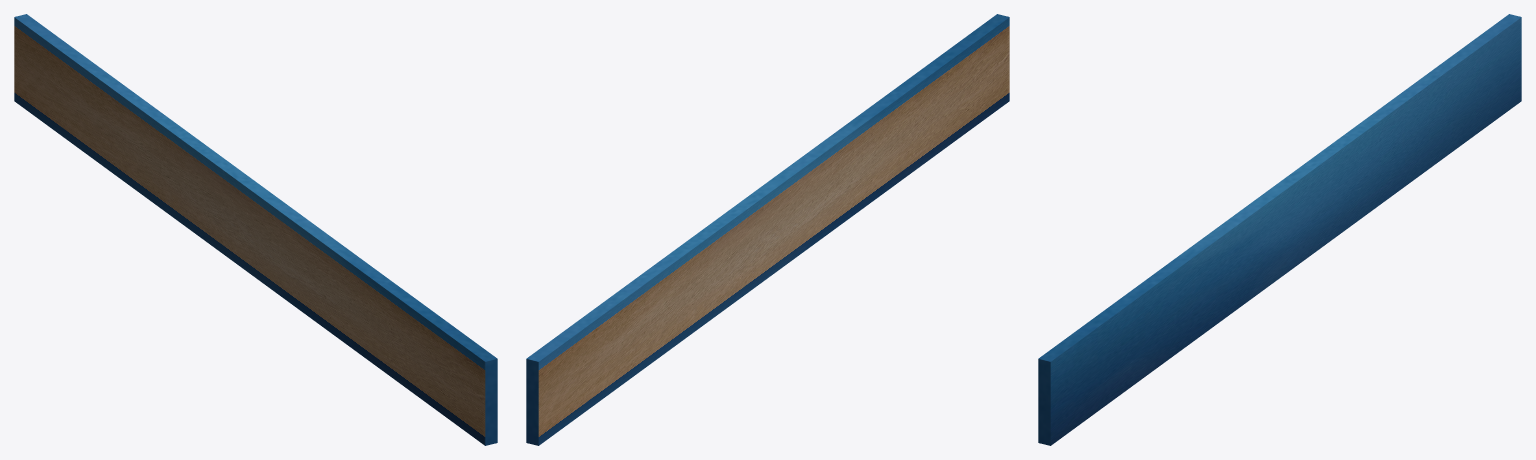
The model's file is RightWall.obj.
The picture shows the model from 3 angles, left to right: view 1: azimuth 30°, elevation 25°; view 2: azimuth 150°, elevation 25°; view 3: azimuth 330°, elevation 25°; orthographic projection.
Visible parts, largest first — view 1: pCube1; view 2: pCube1; view 3: pCube1.
Part boxes in pixels (x1,y1,x2,y2): pCube1: (14,14,497,445); pCube1: (526,14,1009,445); pCube1: (1038,14,1521,445).
Bounding box in the file's own units: 2 × 12.8 × 130.
1 material, 1 textured.
